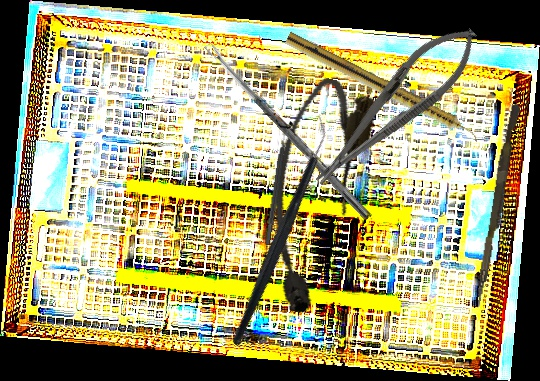Cannula: (242, 71, 382, 319)
Chopper: (164, 112, 393, 348)
Fixation Ring: (257, 118, 295, 247)
Handpiece: (282, 31, 484, 146)
Needle Holder: (298, 11, 492, 201)
Pusher: (474, 102, 521, 310)
Surgical Spoon: (204, 40, 373, 222)
